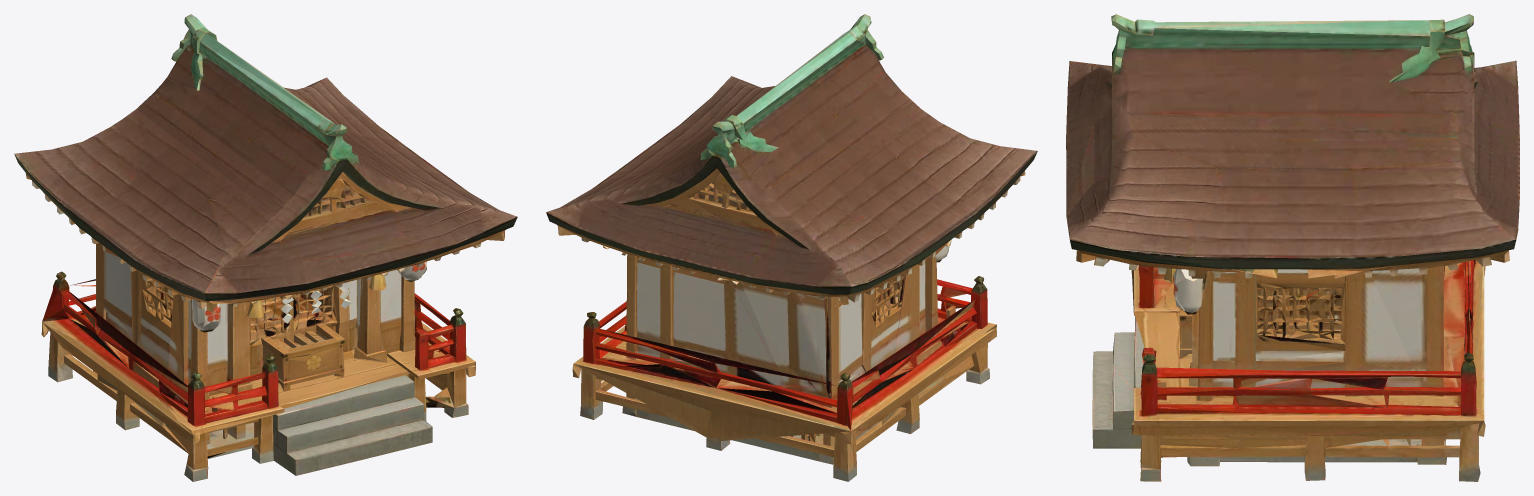
File: shrine.glb
3 views of the same model, side by side, from view 1: azimuth 30°, elevation 25°; view 2: azimuth 150°, elevation 25°; view 3: azimuth 270°, elevation 25° (orthographic). The views are drawn at different scales.
Size of the model in its own units: 1.81 by 1.8 by 1.9.
1 material, 1 textured.
